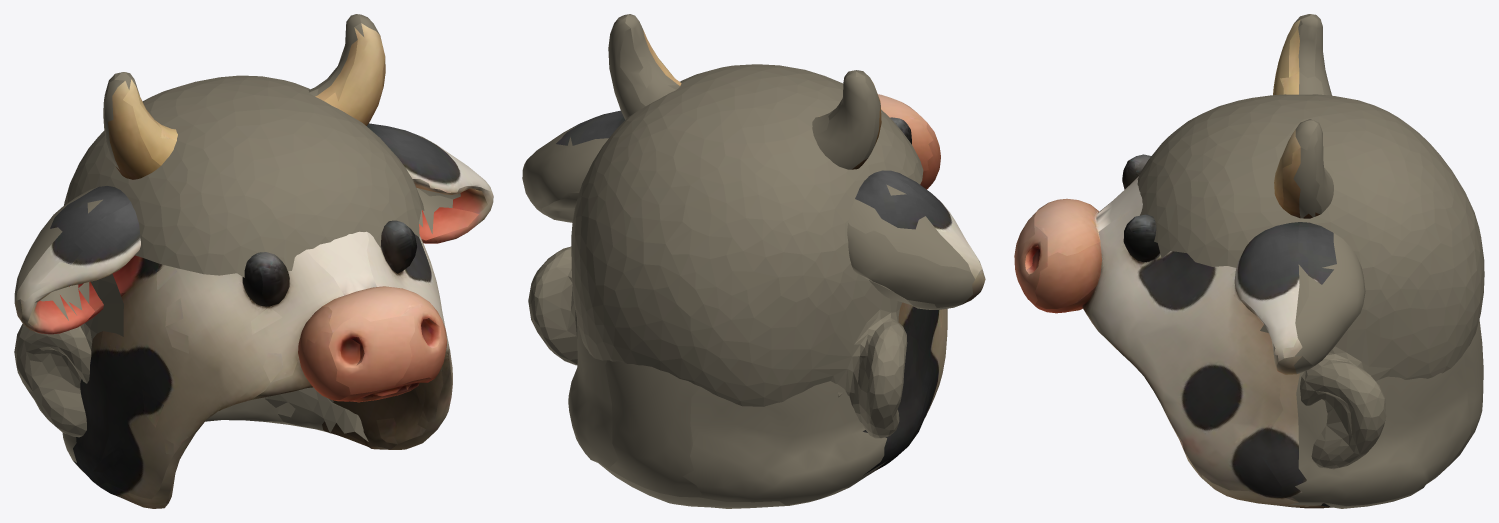
File: cow.glb
The picture shows the model from 3 angles, left to right: view 1: azimuth 30°, elevation 25°; view 2: azimuth 150°, elevation 25°; view 3: azimuth 270°, elevation 25°; orthographic projection. The views are drawn at different scales.
Parts seen in each view (by area): view 1: geometry_0, HoodAnatomicalLining; view 2: HoodAnatomicalLining, geometry_0; view 3: geometry_0, HoodAnatomicalLining.
Boxes of the visible parts, x1,y1,x2,y2 form: geometry_0: [14, 14, 493, 508]; HoodAnatomicalLining: [14, 75, 424, 441]; HoodAnatomicalLining: [528, 64, 923, 438]; geometry_0: [522, 14, 985, 508]; geometry_0: [1014, 14, 1483, 508]; HoodAnatomicalLining: [1137, 94, 1484, 469].
Size of the model in its own units: 0.5666 by 0.4896 by 0.5286.
2 materials, 1 textured.
